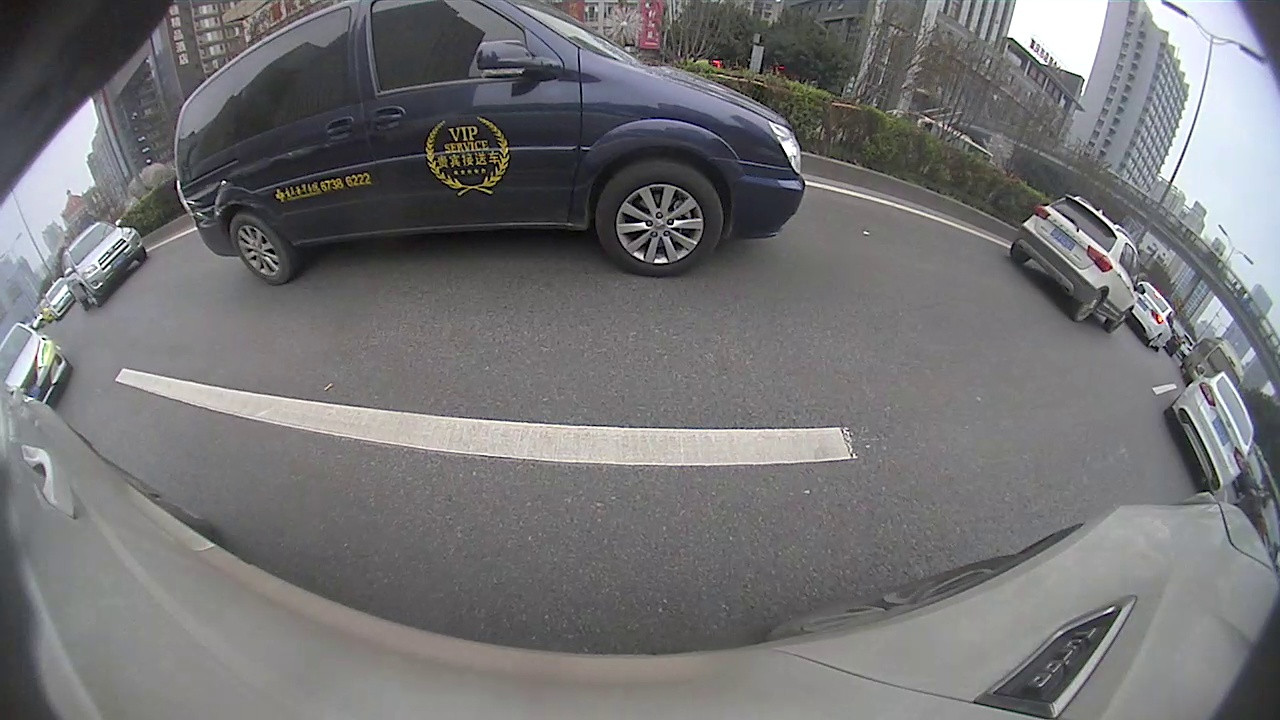car: (1067, 277, 1278, 483), (924, 196, 1039, 257), (487, 165, 555, 202), (675, 157, 731, 195), (806, 172, 853, 202)
front: (1104, 354, 1213, 479), (927, 211, 938, 229)
person: (1048, 226, 1058, 258)
rear: (975, 228, 992, 248)
rider: (788, 164, 814, 200), (867, 182, 886, 209)
